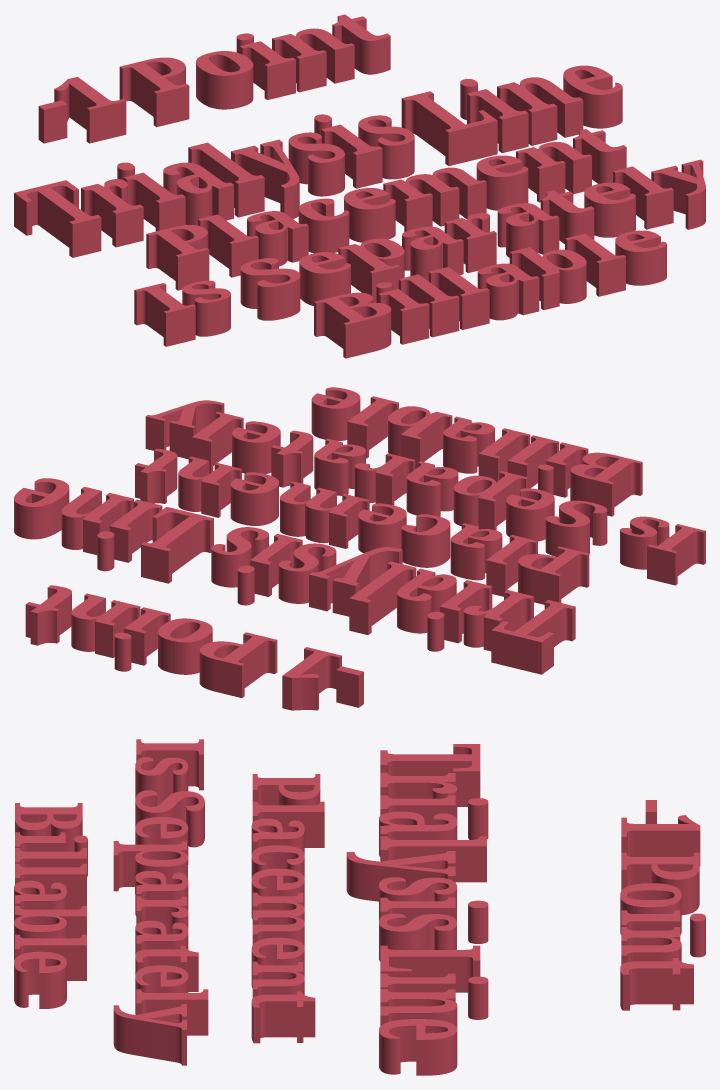
The model's file is netrial.gltf.
3 views of the same model, one above another, from view 1: azimuth 30°, elevation 25°; view 2: azimuth 150°, elevation 25°; view 3: azimuth 270°, elevation 25° (orthographic). The views are drawn at different scales.
Visible parts, largest first — view 1: Mesh_Mesh_head_geo001_lambert2SG001; view 2: Mesh_Mesh_head_geo001_lambert2SG001; view 3: Mesh_Mesh_head_geo001_lambert2SG001.
Boxes of the visible parts, box(x1,y1,x2,y2) form: Mesh_Mesh_head_geo001_lambert2SG001: box(14, 14, 705, 358); Mesh_Mesh_head_geo001_lambert2SG001: box(14, 387, 705, 710); Mesh_Mesh_head_geo001_lambert2SG001: box(14, 739, 705, 1075).
Size of the model in its own units: 180 by 10 by 175.
